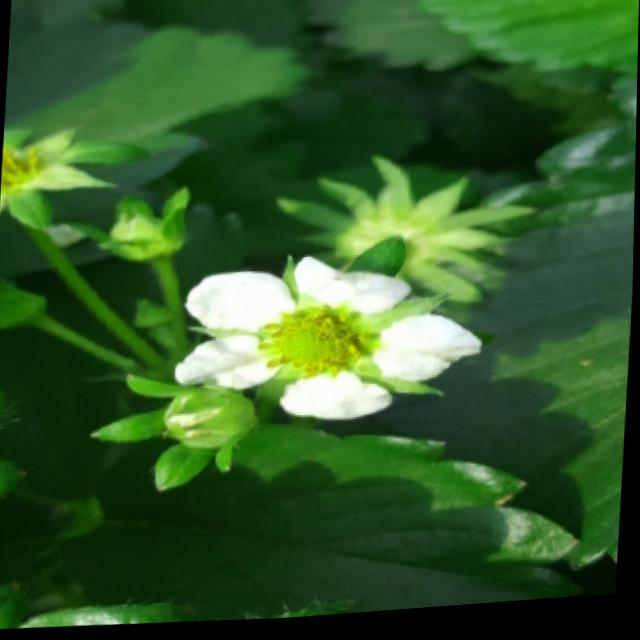Blossom Blight: (256, 304, 375, 386)
